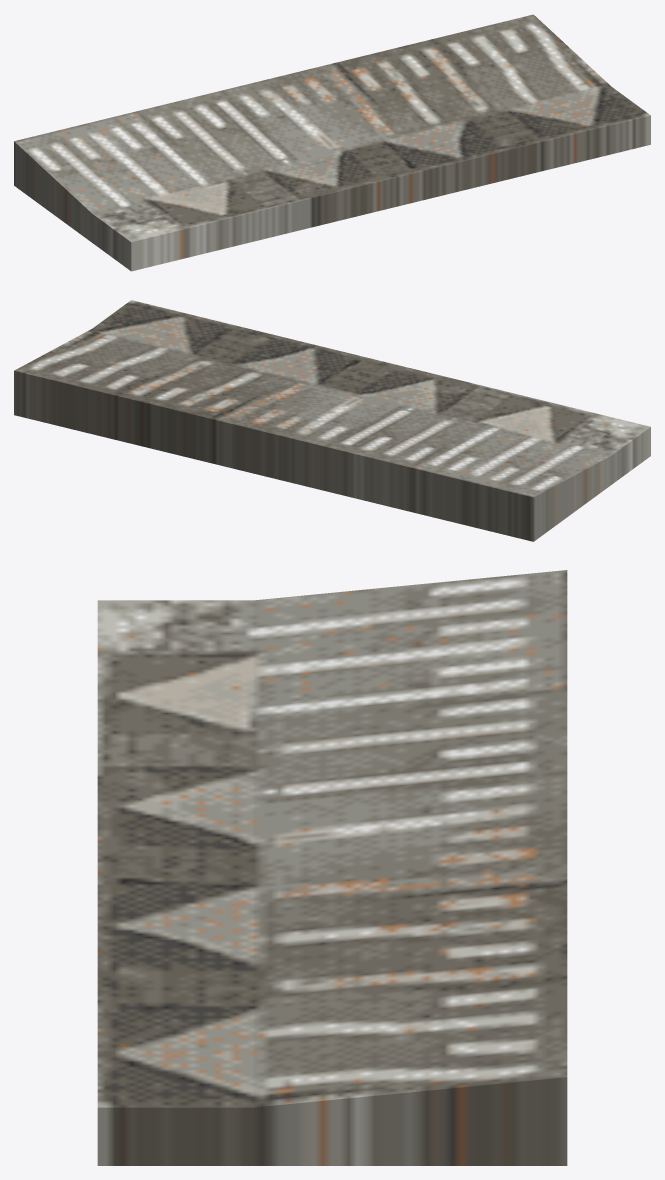
The model's file is verkeersdrempel.fbx.
The picture shows the model from 3 angles, top to bottom: view 1: azimuth 30°, elevation 25°; view 2: azimuth 150°, elevation 25°; view 3: azimuth 270°, elevation 25°; orthographic projection. The views are drawn at different scales.
Parts seen in each view (by area): view 1: Cube.499; view 2: Cube.499; view 3: Cube.499.
Boxes of the visible parts, box(x1,y1,x2,y2) form: Cube.499: box(14, 14, 650, 271); Cube.499: box(14, 300, 650, 541); Cube.499: box(97, 570, 567, 1165).
Size of the model in its own units: 449 by 36.64 by 176.
